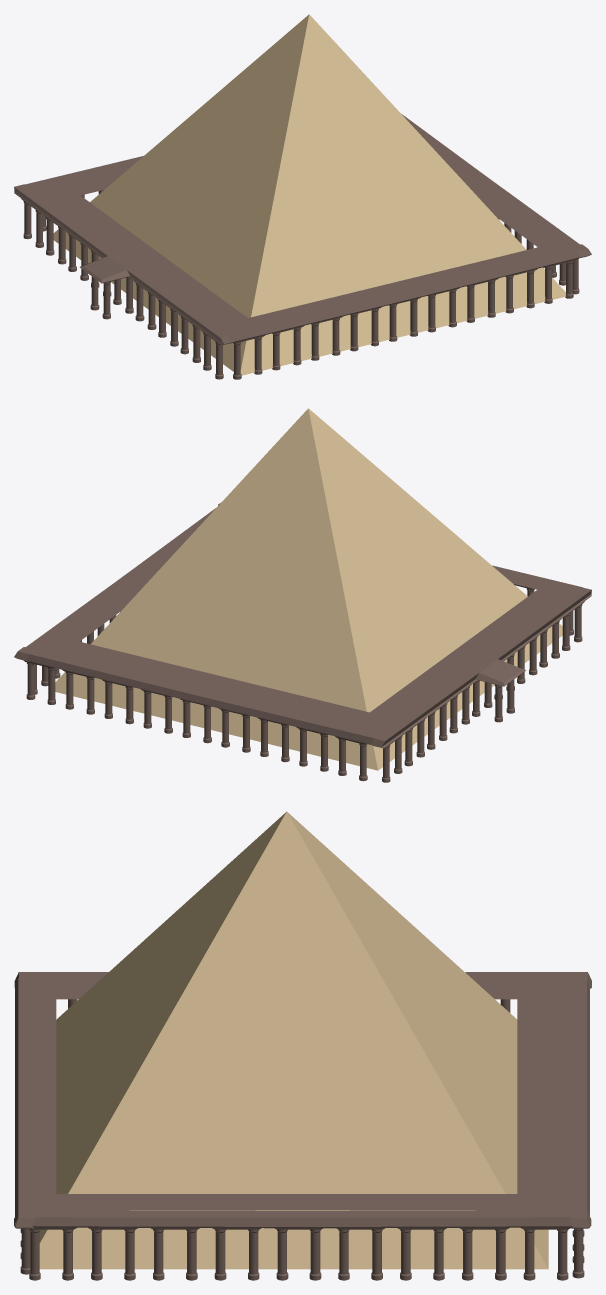
File: Begräbnispyramide_clear.fbx
3 views of the same model, one above another, from view 1: azimuth 30°, elevation 25°; view 2: azimuth 150°, elevation 25°; view 3: azimuth 270°, elevation 25° (orthographic). The views are drawn at different scales.
Parts seen in each view (by area): view 1: Cube.001; view 2: Cube.001; view 3: Cube.001.
Boxes of the visible parts, <box> form: Cube.001: <box>14,14,591,379</box>; Cube.001: <box>14,408,591,782</box>; Cube.001: <box>14,811,591,1280</box>.
Size of the model in its own units: 1936 by 1184 by 1775.
